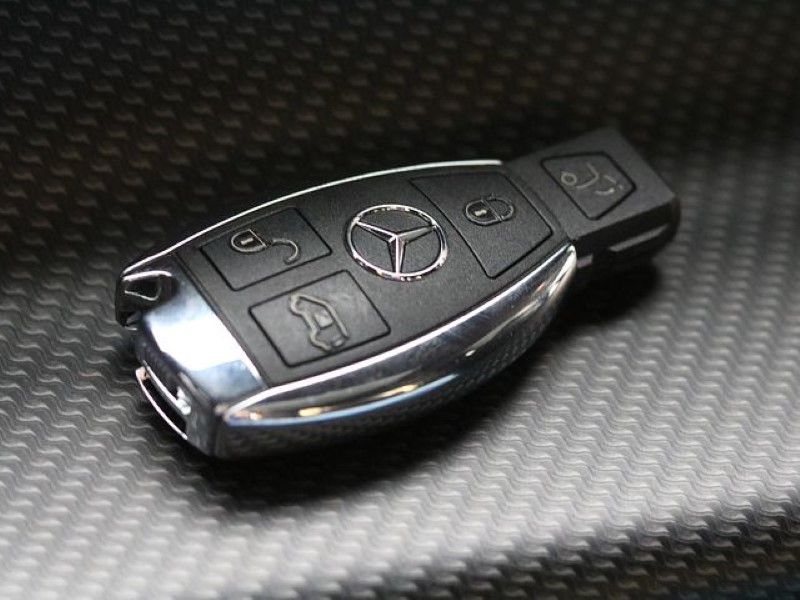carkey: (108, 101, 698, 490)
